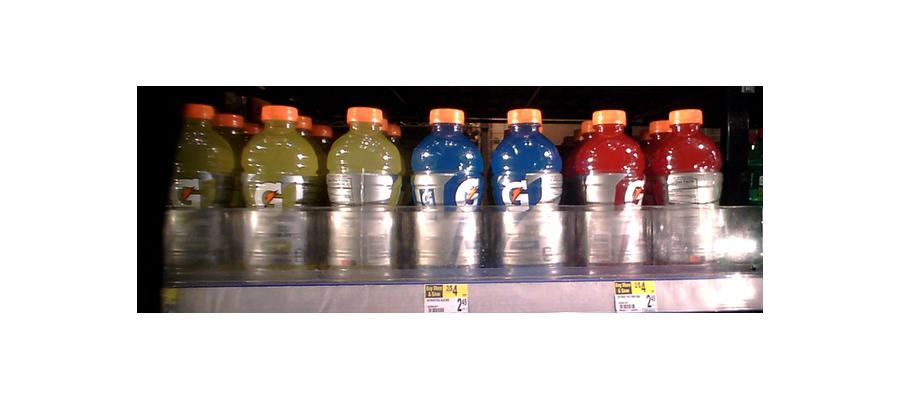bottle: (239, 101, 317, 278), (408, 105, 483, 281), (325, 104, 400, 278), (163, 97, 232, 281), (647, 104, 722, 273), (491, 107, 565, 277), (576, 104, 646, 276)
